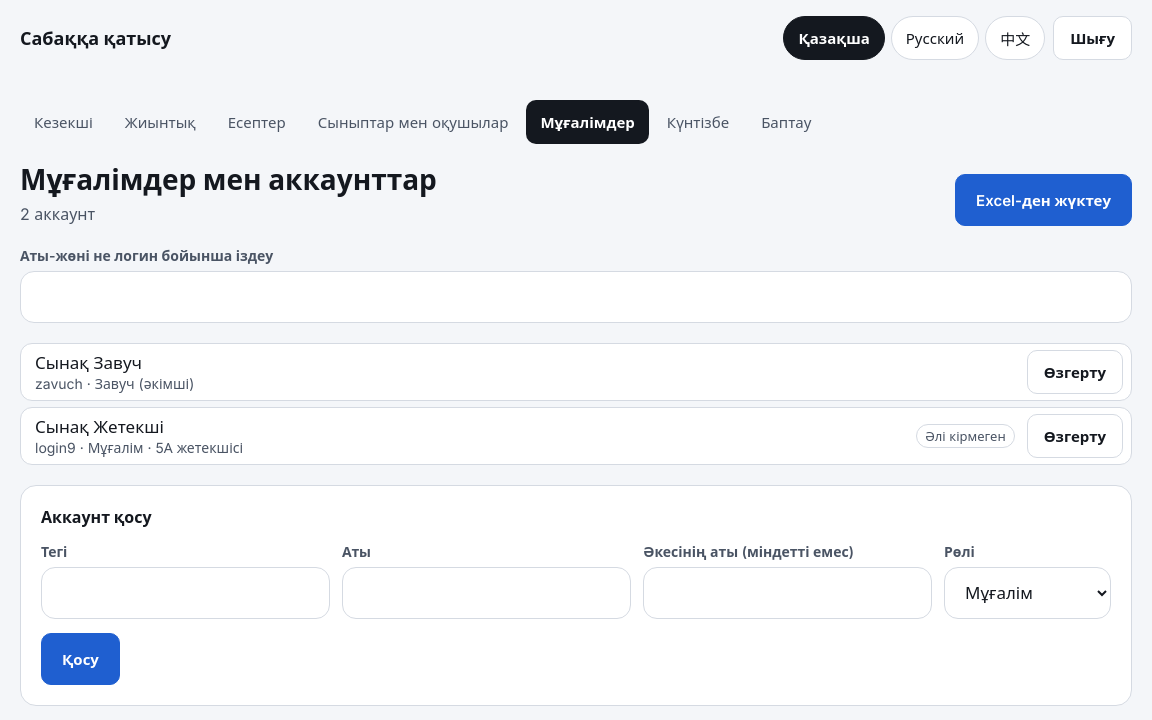
Test: мұғалімдер › завуч өз аккаунтын өшіре алмайды; іздеу тізімді сүзеді
Click the button with aria-label "Сынақ Завуч: әрекеттер" at (1075, 372), box [1027,350,1123,394]
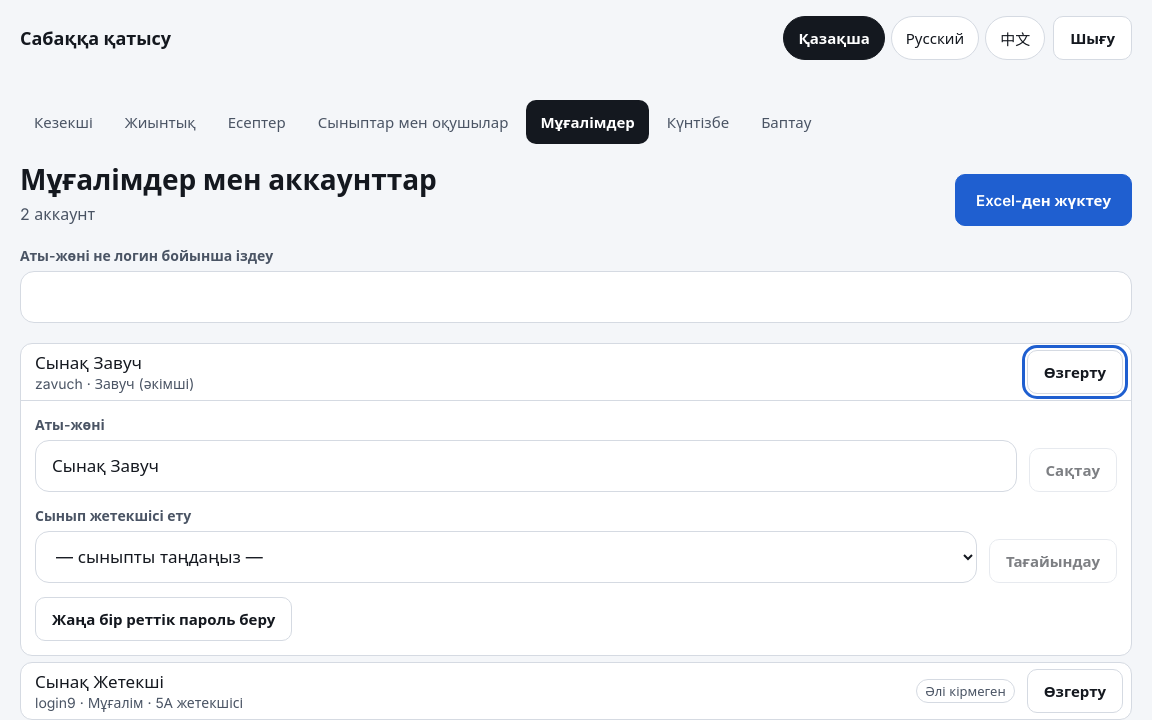
Type "жетекші" into the search field at (576, 297), box [20,271,1132,323]
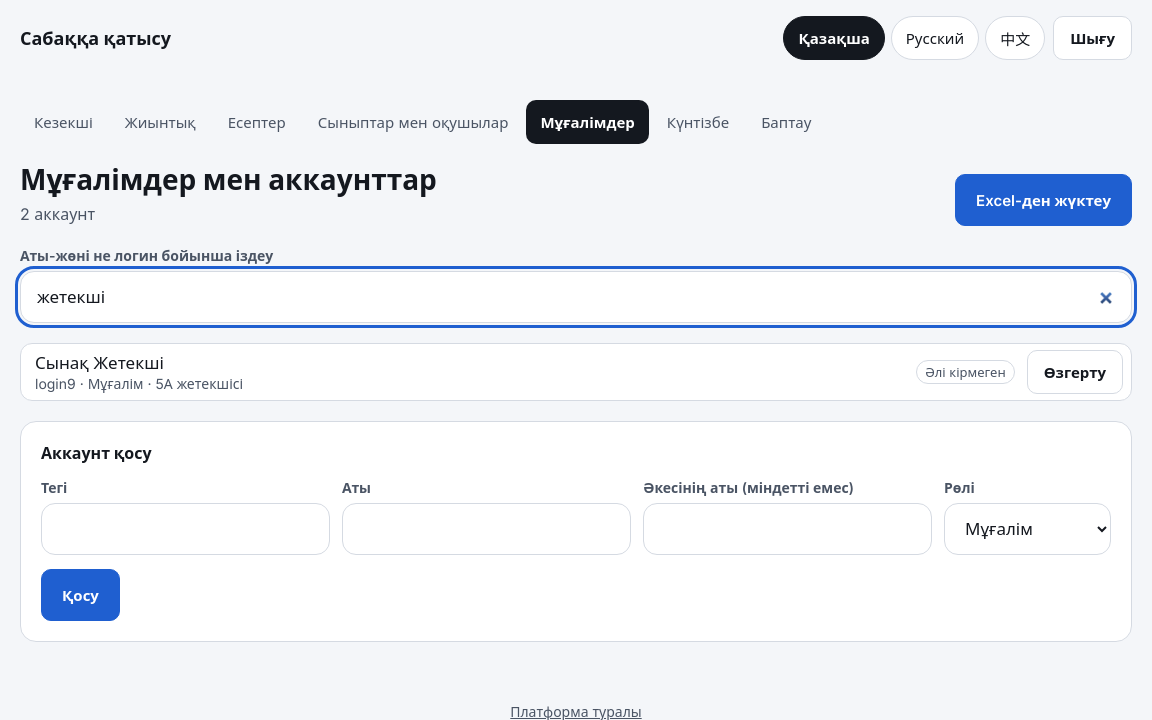
Expected: the text "Сынақ Жетекші" is shown, [35,353,164,373]
Now the text "Сынақ Завуч" is gone
